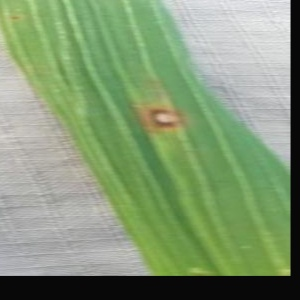Bacterial_Leaf_Blight: (138, 99, 193, 136), (7, 12, 26, 26)
